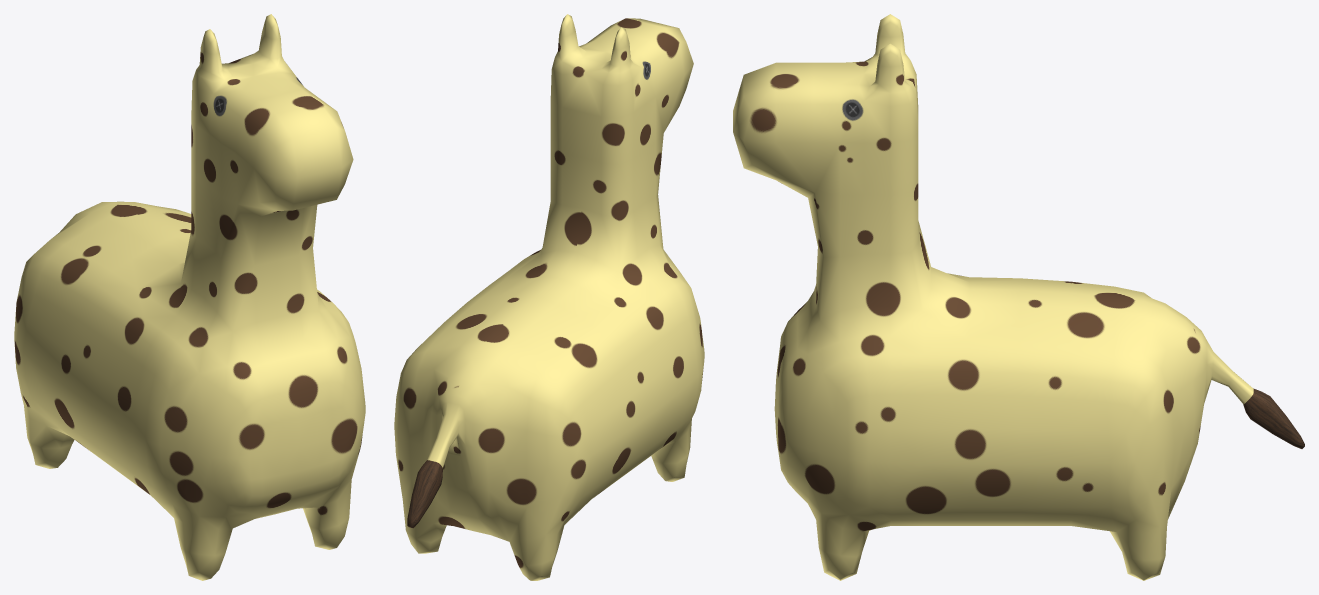
File: Toy Giraffe.FBX
3 renders of one model, left to right at view 1: azimuth 30°, elevation 25°; view 2: azimuth 150°, elevation 25°; view 3: azimuth 270°, elevation 25°, orthographic. The views are drawn at different scales.
Visible parts, largest first — view 1: Box001; view 2: Box001; view 3: Box001.
Part boxes in pixels (<box>): Box001: <box>14,14,365,580</box>; Box001: <box>394,14,704,580</box>; Box001: <box>733,14,1304,580</box>.
Bounding box in the file's own units: 23.13 × 52.27 × 51.95.
Materials: 1 (1 with a texture image).
